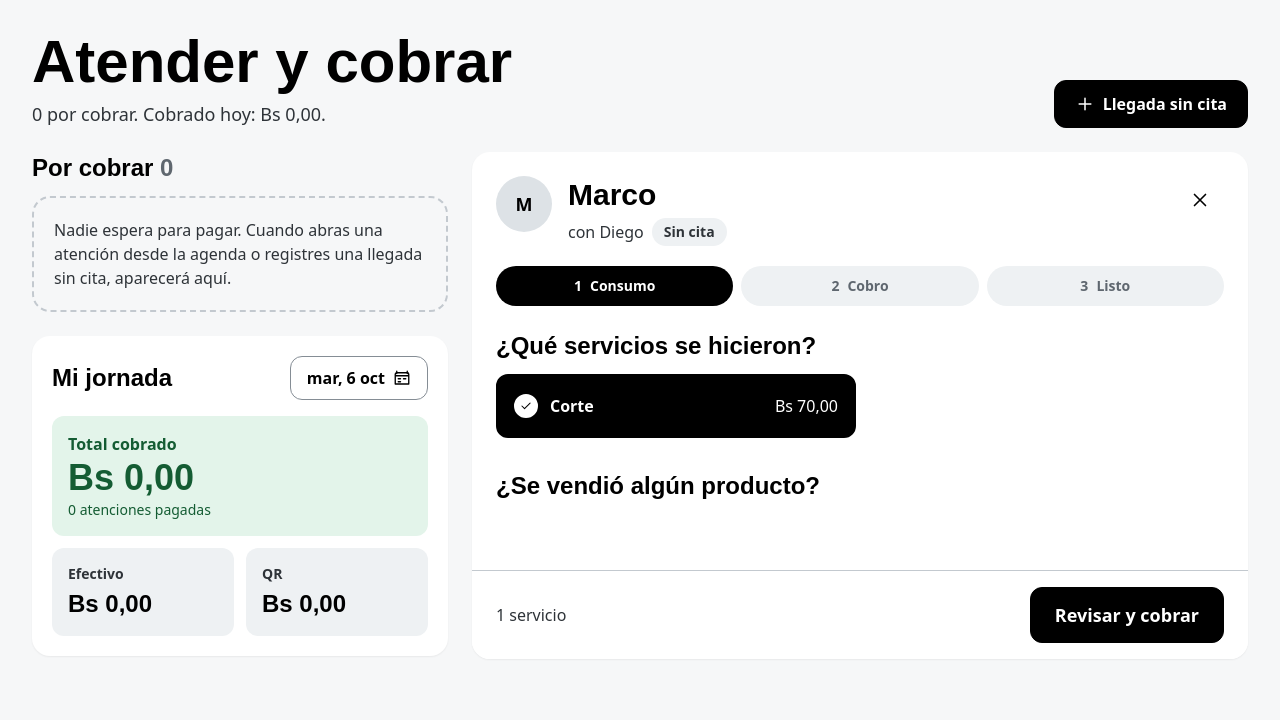
OperationsPage › offers discounts only to management
What coordinates should you click on to do the following:
click the button "Revisar y cobrar"
I would click on:
 (1127, 614)
Its box is [1030,586,1224,642].
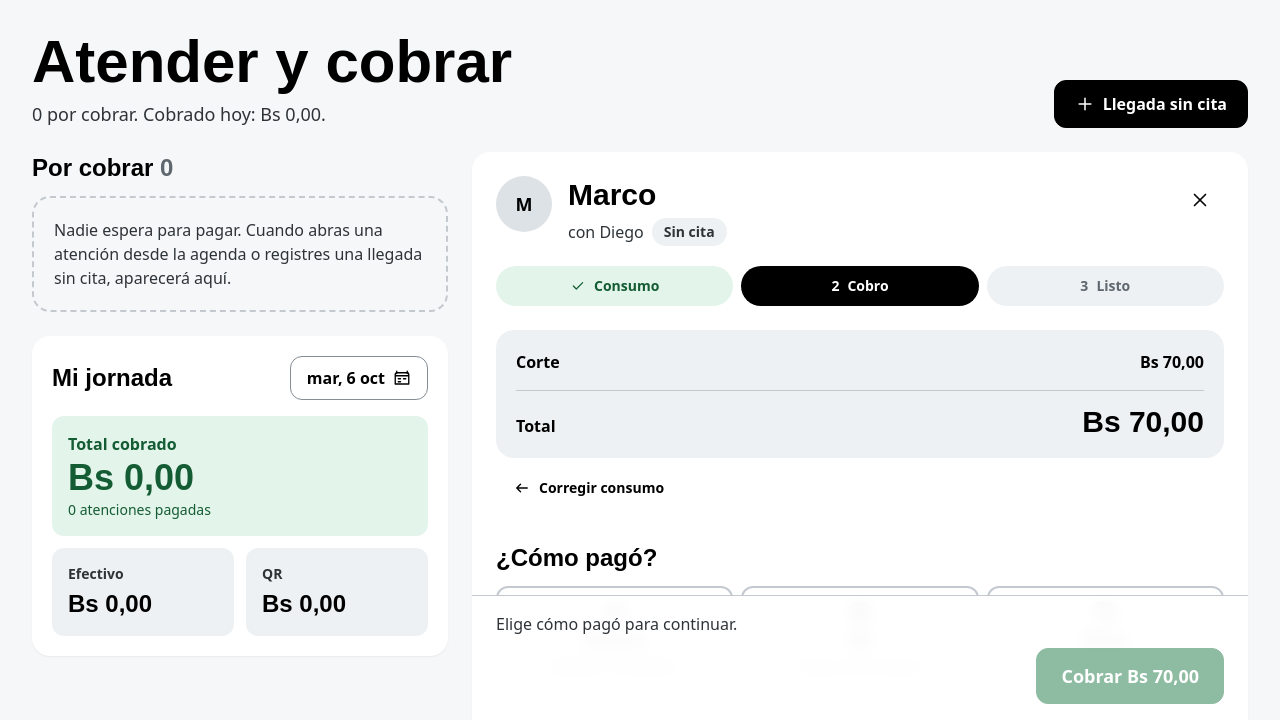
Expected: the heading "¿Cómo pagó?" is shown, [496,544,657,570]
